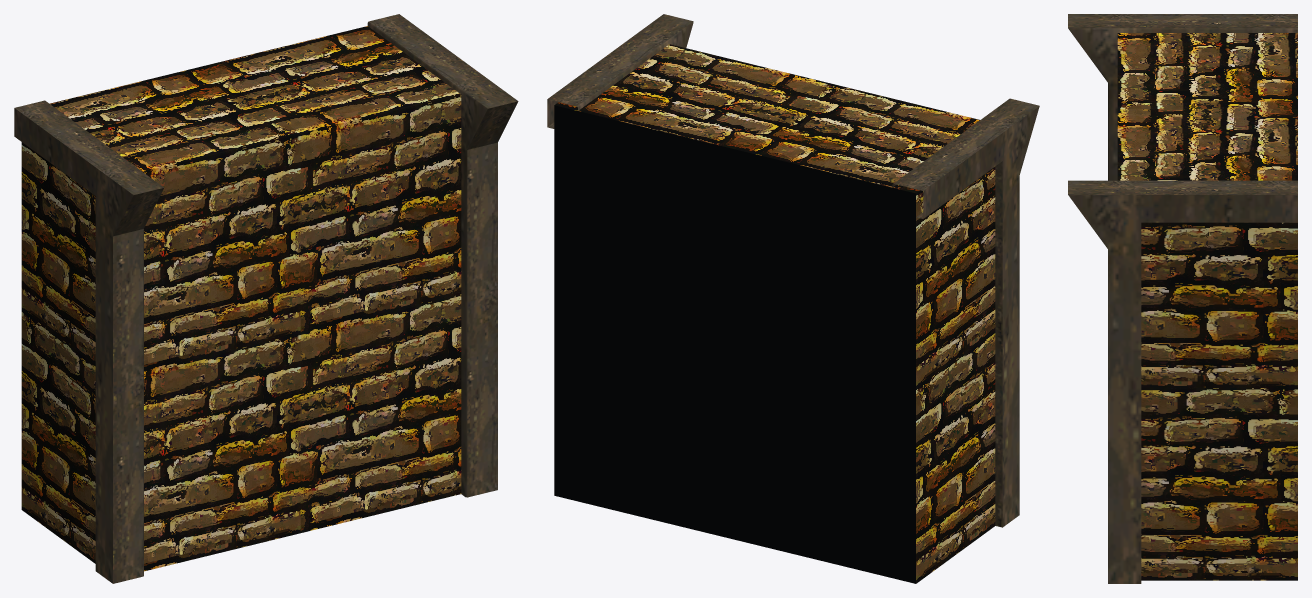
Rendered from stoneWallA.fbx.
The picture shows the model from 3 angles, left to right: view 1: azimuth 30°, elevation 25°; view 2: azimuth 150°, elevation 25°; view 3: azimuth 270°, elevation 25°; orthographic projection. The views are drawn at different scales.
Visible parts, largest first — view 1: stoneWallA; view 2: stoneWallA; view 3: stoneWallA.
Part boxes in pixels (left/top/right/bottom): stoneWallA: left=14, top=14, right=518, bottom=583; stoneWallA: left=547, top=14, right=1039, bottom=583; stoneWallA: left=1068, top=14, right=1297, bottom=583.
Bounding box in the file's own units: 300 × 301 × 161.
